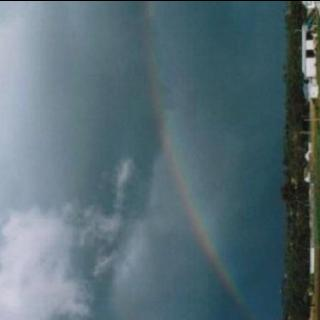Stratus: (0, 0, 239, 320)
